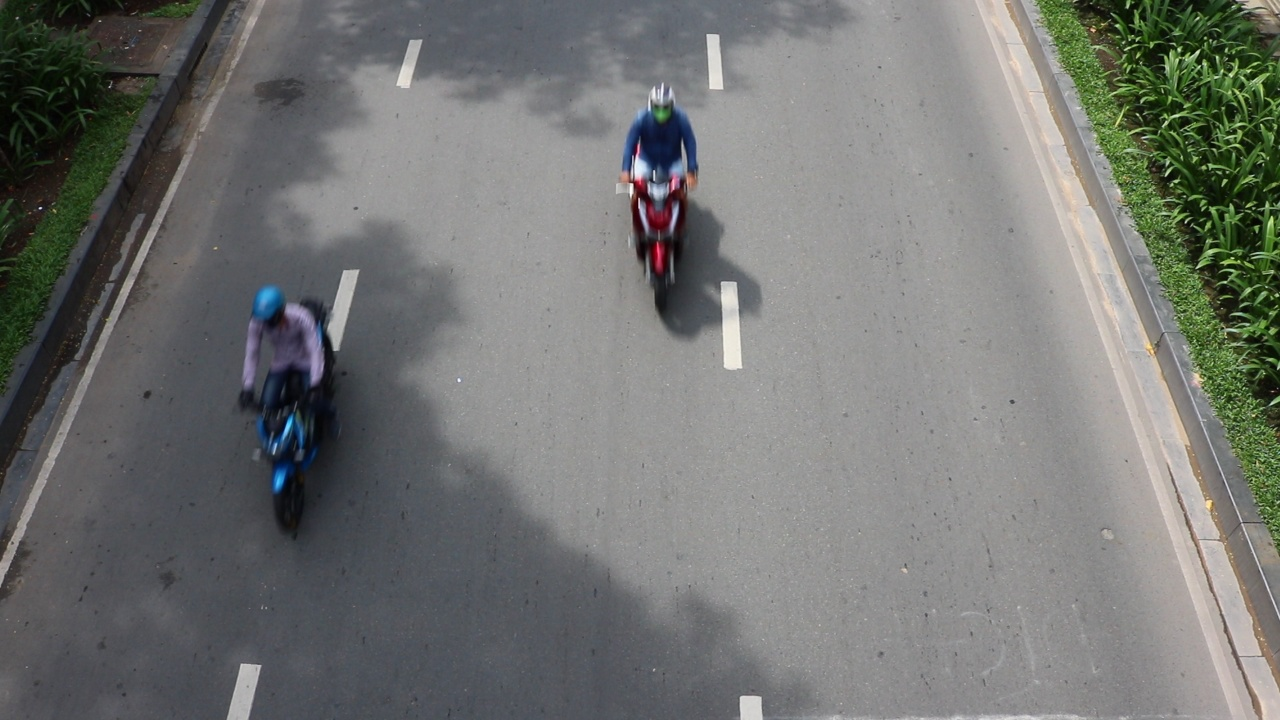motorcycle: (235, 363, 331, 528), (620, 159, 693, 313)
